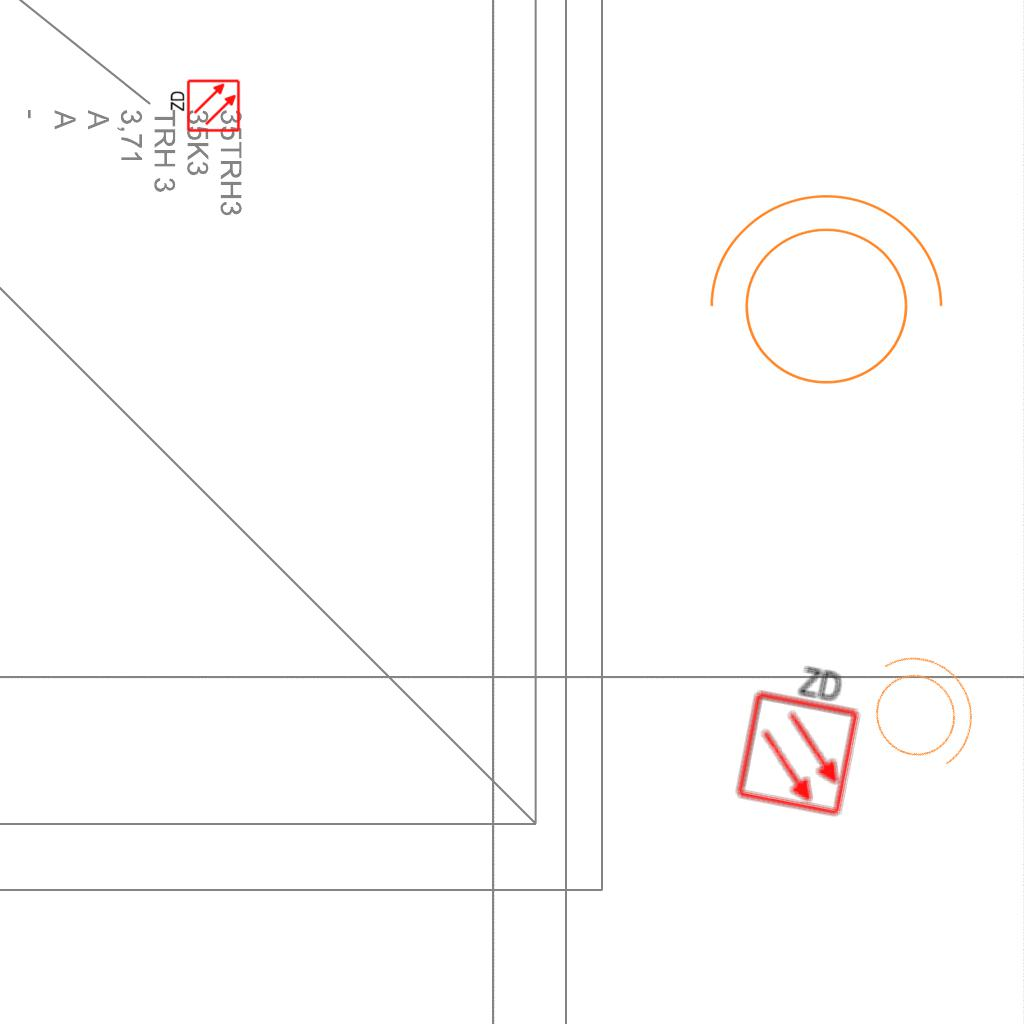Scheinwerfer_fuer_Alarmbeleuchtung: (688, 184, 952, 409), (835, 624, 1001, 796)
ZD_Melder_in_Zwischendecke_mit_Revisionsoeffnung_mind_40_x_40_cm: (729, 650, 871, 819), (167, 78, 241, 135)
